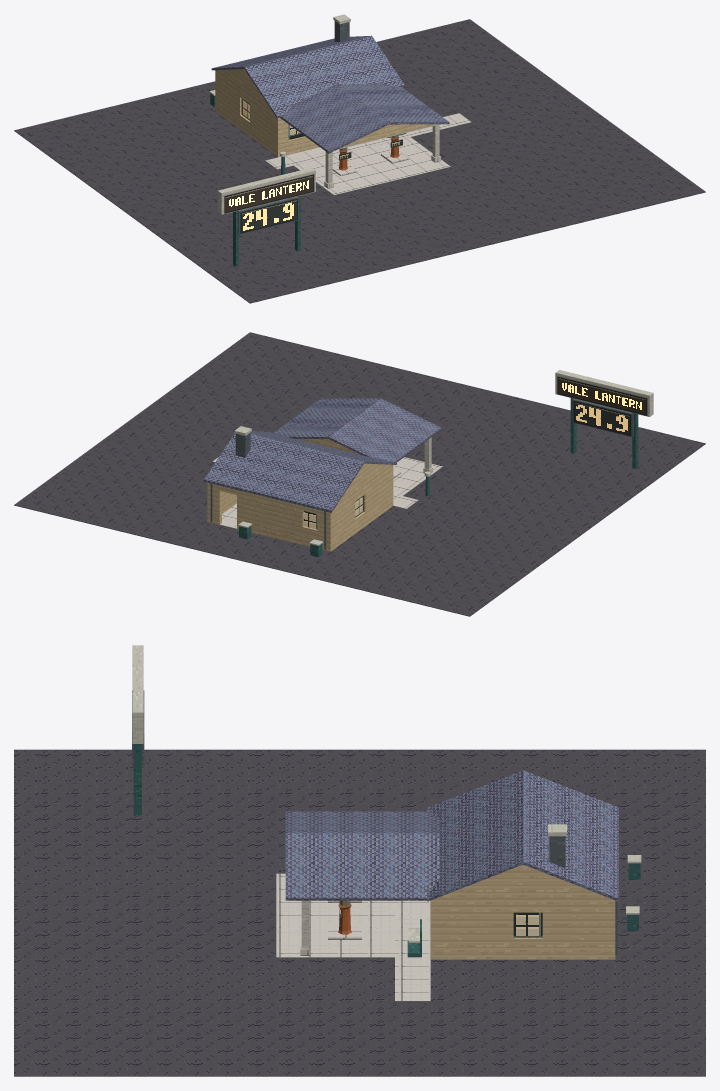
The model's file is vale-lantern-1925-mid.glb.
The picture shows the model from 3 angles, top to bottom: view 1: azimuth 30°, elevation 25°; view 2: azimuth 150°, elevation 25°; view 3: azimuth 270°, elevation 25°; orthographic projection. The views are drawn at different scales.
Visible parts, largest first — view 1: lot, shell, roadside_sign, sign_name_street, price_face_street, fuel_canopy; view 2: lot, shell, roadside_sign, sign_name_exit, price_face_exit; view 3: lot, shell, roadside_sign, pump_2.
Part boxes in pixels (<box>): lot: <box>14,19,705,303</box>; shell: <box>211,14,449,156</box>; roadside_sign: <box>217,167,315,266</box>; sign_name_street: <box>224,174,314,213</box>; price_face_street: <box>240,198,297,233</box>; fuel_canopy: <box>324,124,440,188</box>; lot: <box>14,332,705,616</box>; shell: <box>203,398,441,551</box>; roadside_sign: <box>555,370,653,468</box>; sign_name_exit: <box>557,376,647,415</box>; price_face_exit: <box>573,401,630,435</box>; lot: <box>14,749,705,1076</box>; shell: <box>285,770,618,959</box>; roadside_sign: <box>132,645,144,815</box>; pump_2: <box>328,900,361,939</box>.
Bounding box in the file's own units: 31.45 × 5.42 × 28.2.
12 materials, 12 textured.
